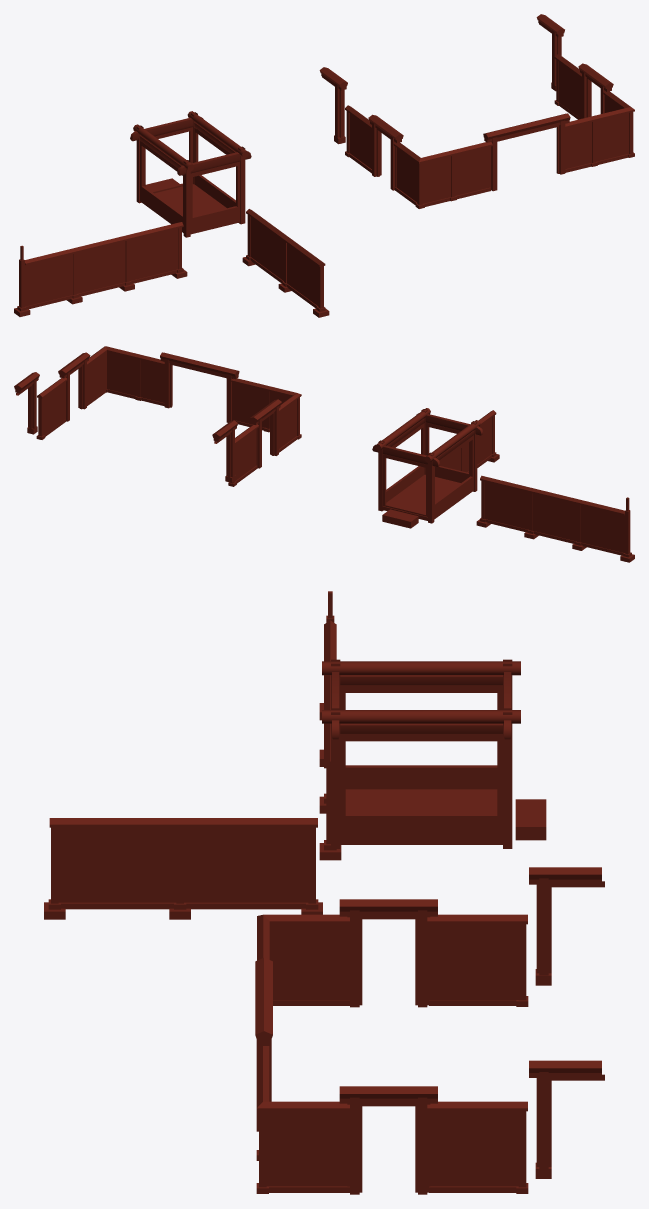
The model's file is Screens_MiniKitchen.fbx.
3 renders of one model, top to bottom at view 1: azimuth 30°, elevation 25°; view 2: azimuth 150°, elevation 25°; view 3: azimuth 270°, elevation 25°, orthographic. The views are drawn at different scales.
Visible parts, largest first — view 1: Screens_Platform, Screens_Courtyard, MiniKitchen; view 2: Screens_Platform, Screens_Courtyard, MiniKitchen; view 3: Screens_Platform, MiniKitchen, Screens_Courtyard.
Boxes of the visible parts, x1,y1,x2,y2 form: Screens_Platform: [319, 14, 634, 208]; Screens_Courtyard: [14, 209, 329, 317]; MiniKitchen: [130, 111, 251, 237]; Screens_Platform: [14, 346, 301, 486]; Screens_Courtyard: [440, 410, 634, 562]; MiniKitchen: [372, 408, 483, 528]; Screens_Platform: [255, 867, 604, 1194]; MiniKitchen: [322, 659, 546, 848]; Screens_Courtyard: [44, 591, 341, 919].
Bounding box in the file's own units: 2821 × 496 × 1245.
